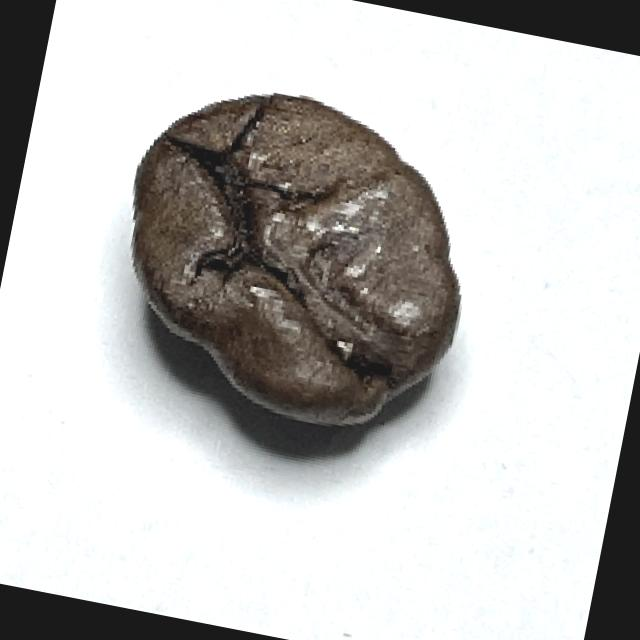bean: (94, 66, 495, 448)
